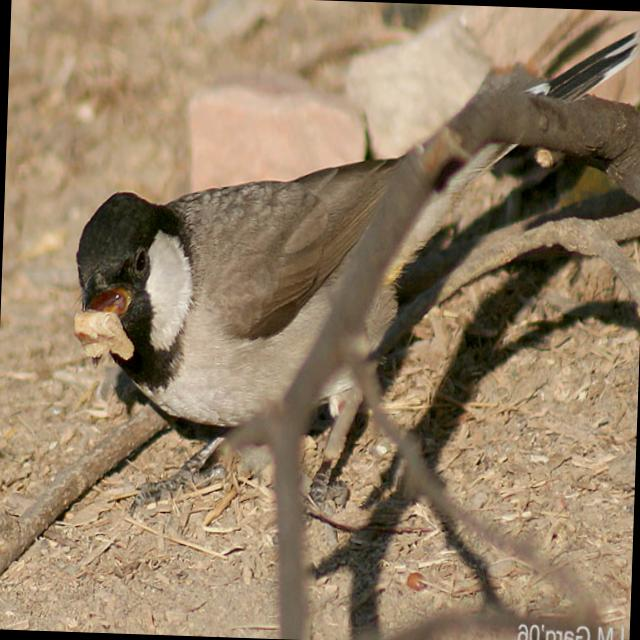bird: (68, 0, 639, 527)
